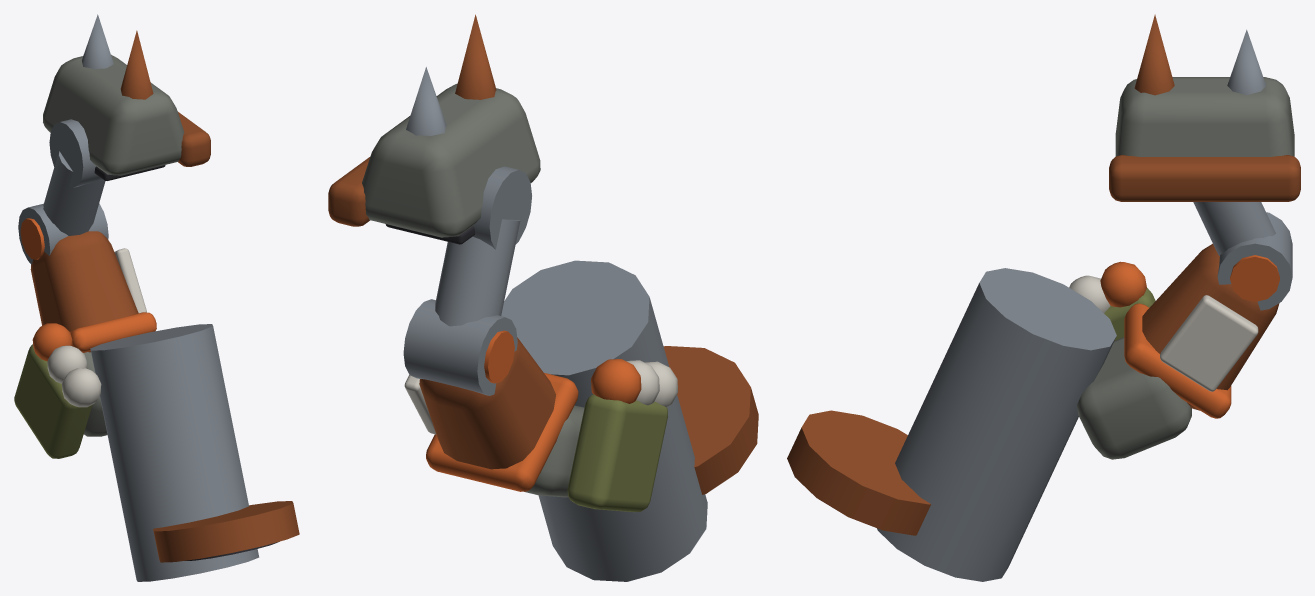
The model's file is ar_mortar.glb.
The picture shows the model from 3 angles, left to right: view 1: azimuth 30°, elevation 25°; view 2: azimuth 150°, elevation 25°; view 3: azimuth 270°, elevation 25°; orthographic projection. The views are drawn at different scales.
Visible parts, largest first — view 1: ar_mortar; view 2: ar_mortar; view 3: ar_mortar.
Boxes of the visible parts, left/top/right/bottom form: ar_mortar: left=14, top=14, right=299, bottom=581; ar_mortar: left=328, top=14, right=758, bottom=581; ar_mortar: left=787, top=14, right=1300, bottom=581.
Bounding box in the file's own units: 0.243 × 0.6495 × 0.53.
